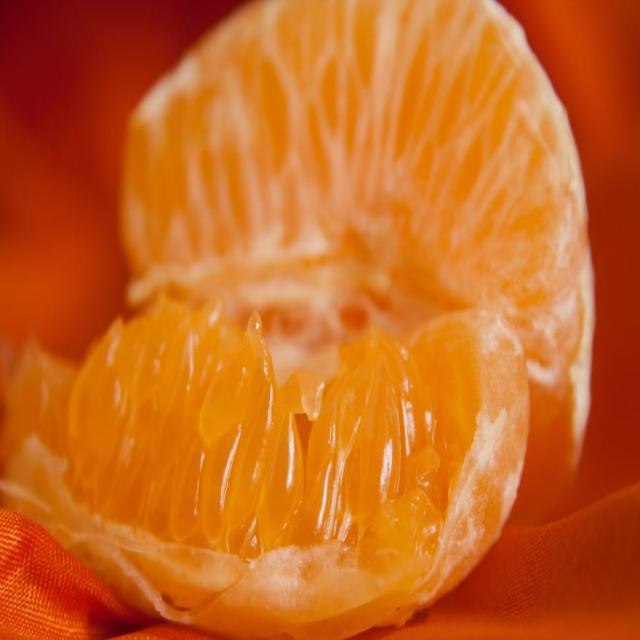orange: (74, 6, 573, 624)
